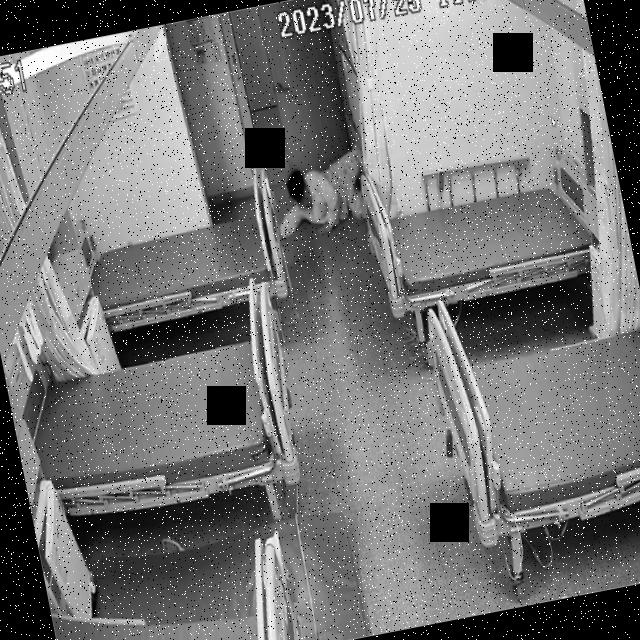bed: (419, 263, 640, 545), (20, 326, 307, 526), (360, 158, 612, 320), (84, 200, 288, 332)
fall: (264, 140, 375, 245)
patient: (263, 138, 374, 244)
